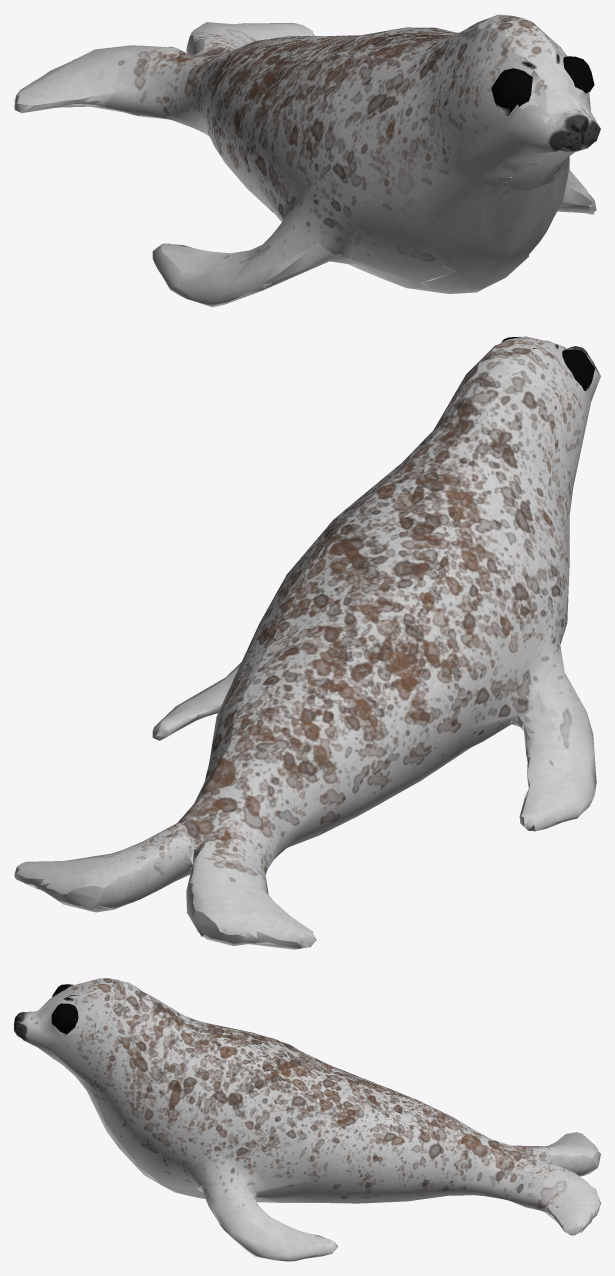
File: nerpa.glb
3 renders of one model, top to bottom at view 1: azimuth 30°, elevation 25°; view 2: azimuth 150°, elevation 25°; view 3: azimuth 270°, elevation 25°, orthographic. The views are drawn at different scales.
Parts seen in each view (by area): view 1: pSphere5, pSphere5.001; view 2: pSphere5, pSphere5.001; view 3: pSphere5, pSphere5.001.
Part boxes in pixels (box(x1,y1,x2,y2)): pSphere5: box(14, 14, 600, 307); pSphere5.001: box(491, 56, 594, 115); pSphere5: box(14, 336, 600, 949); pSphere5.001: box(501, 337, 594, 391); pSphere5: box(14, 978, 600, 1261); pSphere5.001: box(51, 984, 79, 1034).
Bounding box in the file's own units: 1.08 × 0.809 × 2.
Materials: 2 (2 with a texture image).
